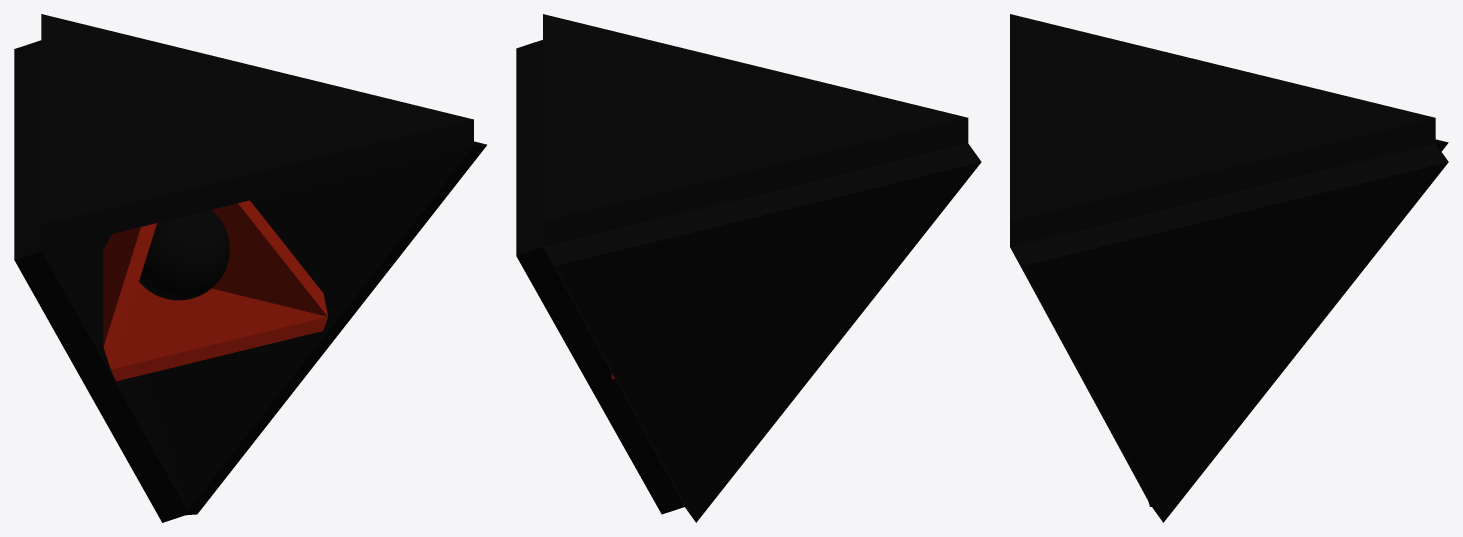
File: Scylla_Body.fbx
3 renders of one model, left to right at view 1: azimuth 30°, elevation 25°; view 2: azimuth 150°, elevation 25°; view 3: azimuth 270°, elevation 25°, orthographic.
Parts seen in each view (by area): view 1: Scylla Body; view 2: Scylla Body; view 3: Scylla Body.
Part boxes in pixels (bbox=[...]): Scylla Body: bbox=[14, 14, 486, 522]; Scylla Body: bbox=[516, 14, 981, 522]; Scylla Body: bbox=[1010, 14, 1448, 522].
Size of the model in its own units: 379 by 309 by 309.
